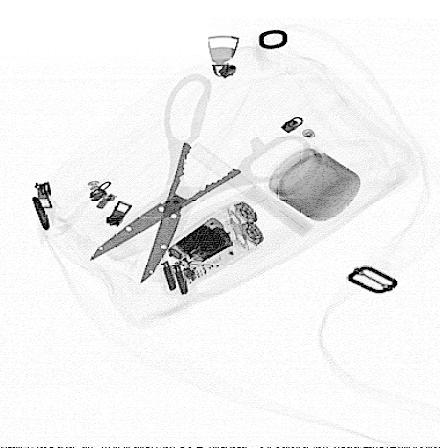Scissors: (89, 72, 313, 283)
